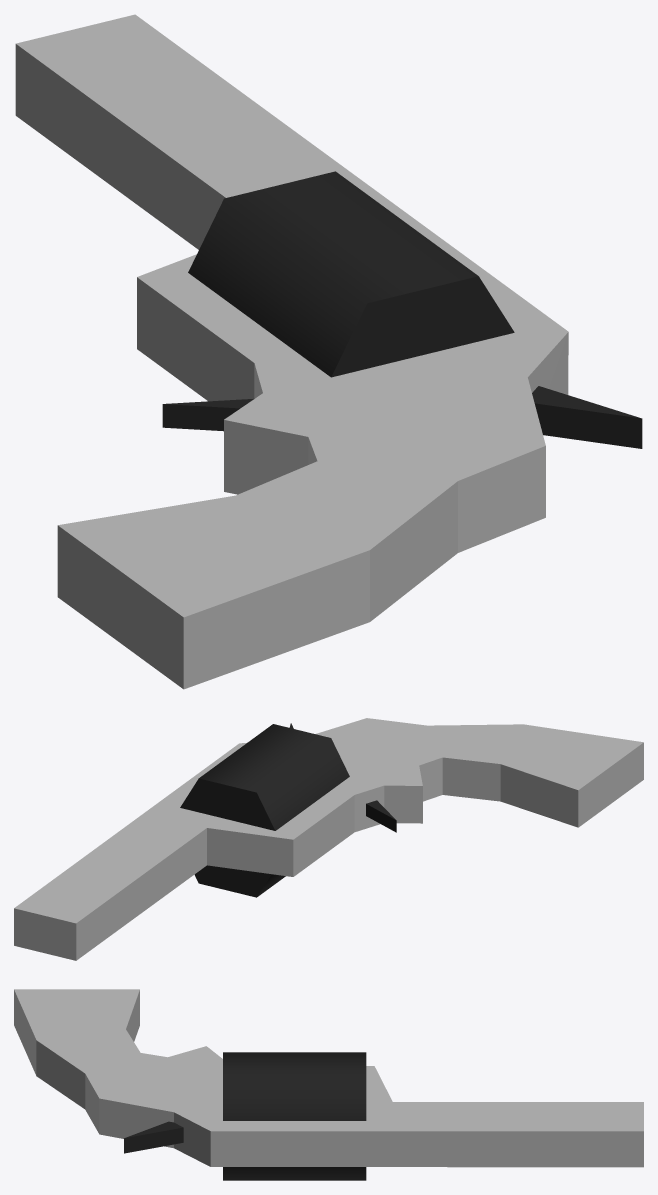
Rendered from Gun.FBX.
3 views of the same model, one above another, from view 1: azimuth 30°, elevation 25°; view 2: azimuth 150°, elevation 25°; view 3: azimuth 270°, elevation 25° (orthographic). The views are drawn at different scales.
Visible parts, largest first — view 1: Gun; view 2: Gun; view 3: Gun.
Part boxes in pixels (<box>): Gun: <box>15,14,642,689</box>; Gun: <box>14,718,643,960</box>; Gun: <box>14,989,643,1180</box>.
Size of the model in its own units: 7.91 by 2.63 by 14.84.
Materials: 1 (1 with a texture image).
